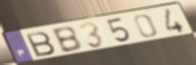0: (133, 13, 159, 38)
3: (79, 21, 106, 49)
4: (164, 8, 186, 34)
5: (105, 17, 132, 43)
B: (50, 25, 84, 54), (24, 30, 58, 58)
